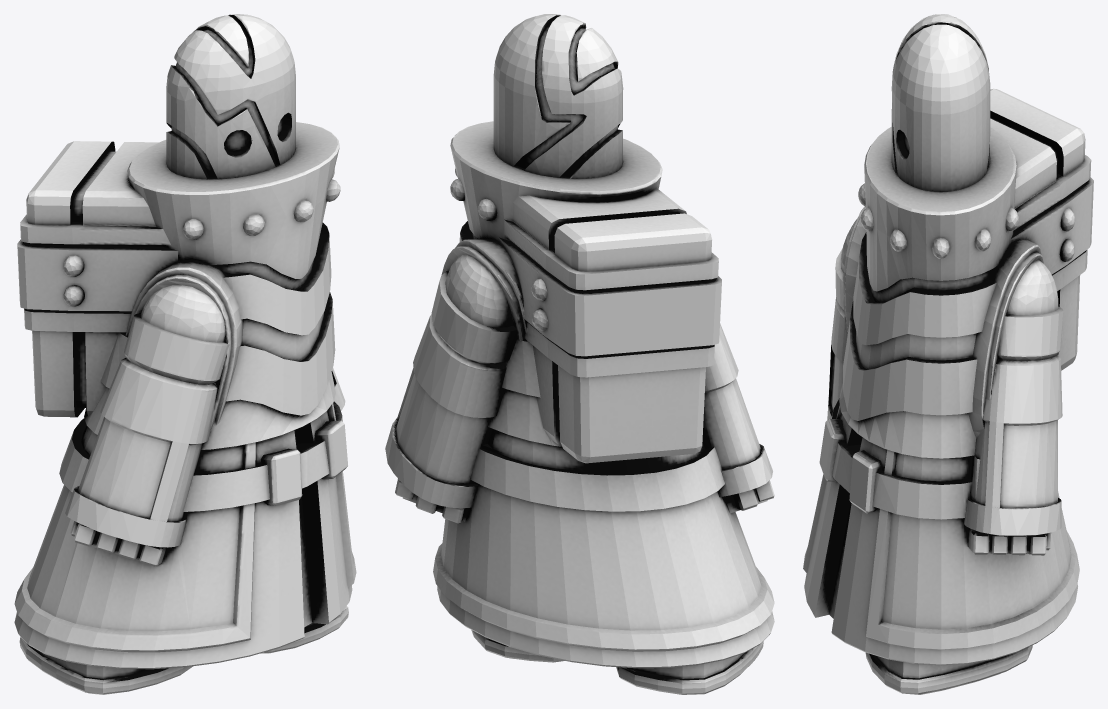
The model's file is agente.glb.
3 renders of one model, left to right at view 1: azimuth 30°, elevation 25°; view 2: azimuth 150°, elevation 25°; view 3: azimuth 270°, elevation 25°, orthographic. The views are drawn at different scales.
Parts seen in each view (by area): view 1: Agent_squeezed_side_compare; view 2: Agent_squeezed_side_compare; view 3: Agent_squeezed_side_compare.
Boxes of the visible parts, x1=… form: Agent_squeezed_side_compare: x1=14, y1=14, x2=356, y2=694; Agent_squeezed_side_compare: x1=385, y1=14, x2=774, y2=694; Agent_squeezed_side_compare: x1=803, y1=14, x2=1093, y2=694.
Size of the model in its own units: 1.17 by 2 by 0.8366.
Materials: 1 (1 with a texture image).
